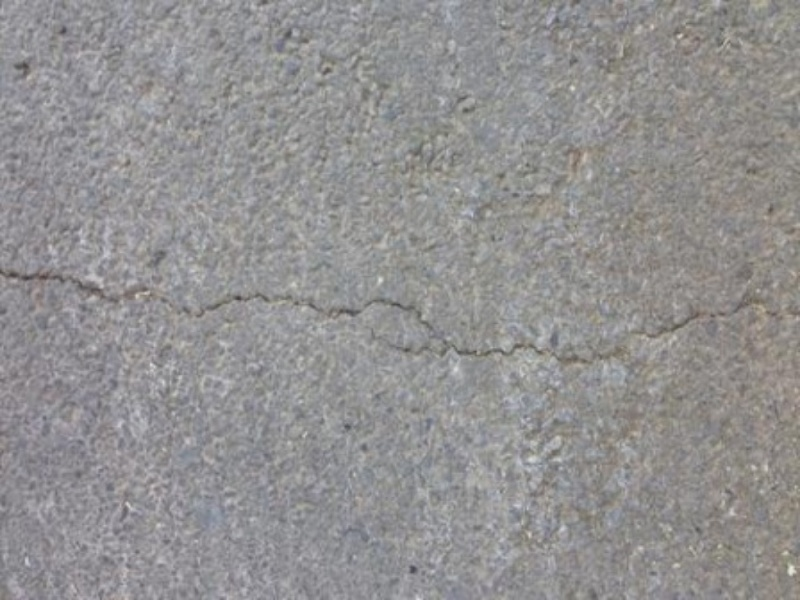crack: (9, 244, 794, 366)
